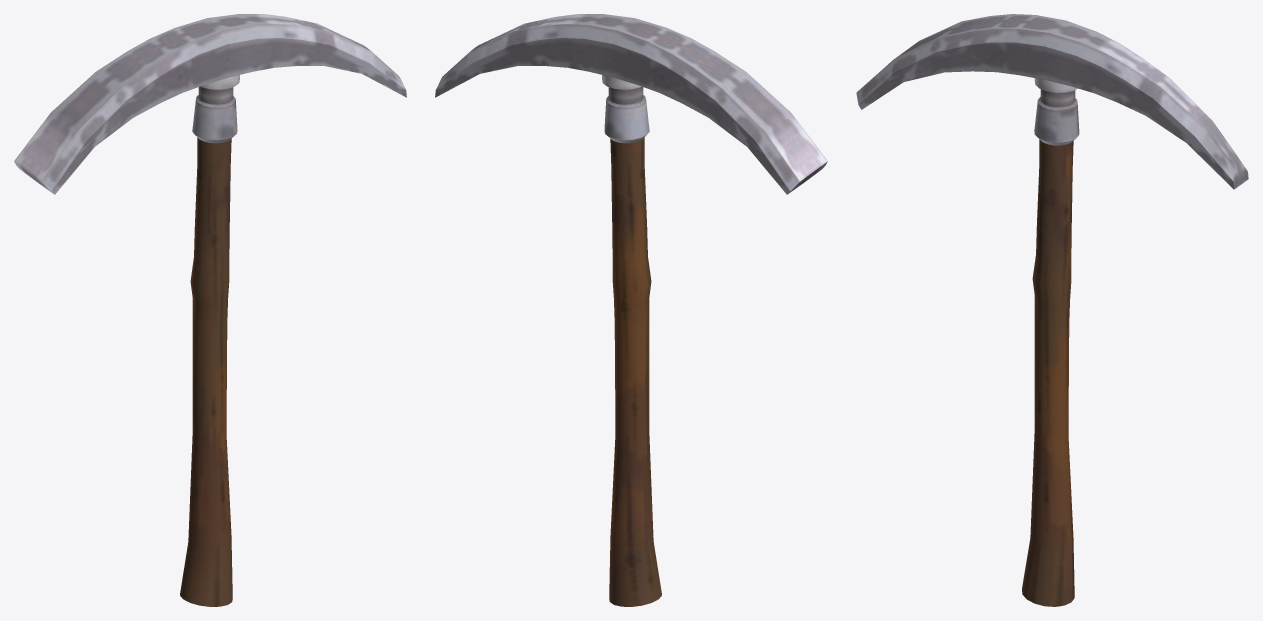
The model's file is Pickaxe_Steel.gltf.
3 renders of one model, left to right at view 1: azimuth 30°, elevation 25°; view 2: azimuth 150°, elevation 25°; view 3: azimuth 330°, elevation 25°, orthographic.
Parts seen in each view (by area): view 1: Pickaxe_Steel; view 2: Pickaxe_Steel; view 3: Pickaxe_Steel.
Boxes of the visible parts, bbox=[...] form: Pickaxe_Steel: bbox=[14, 14, 406, 606]; Pickaxe_Steel: bbox=[435, 14, 827, 606]; Pickaxe_Steel: bbox=[856, 14, 1248, 606].
Bounding box in the file's own units: 0.8129 × 1.2 × 0.1357.
Materials: 1 (1 with a texture image).
